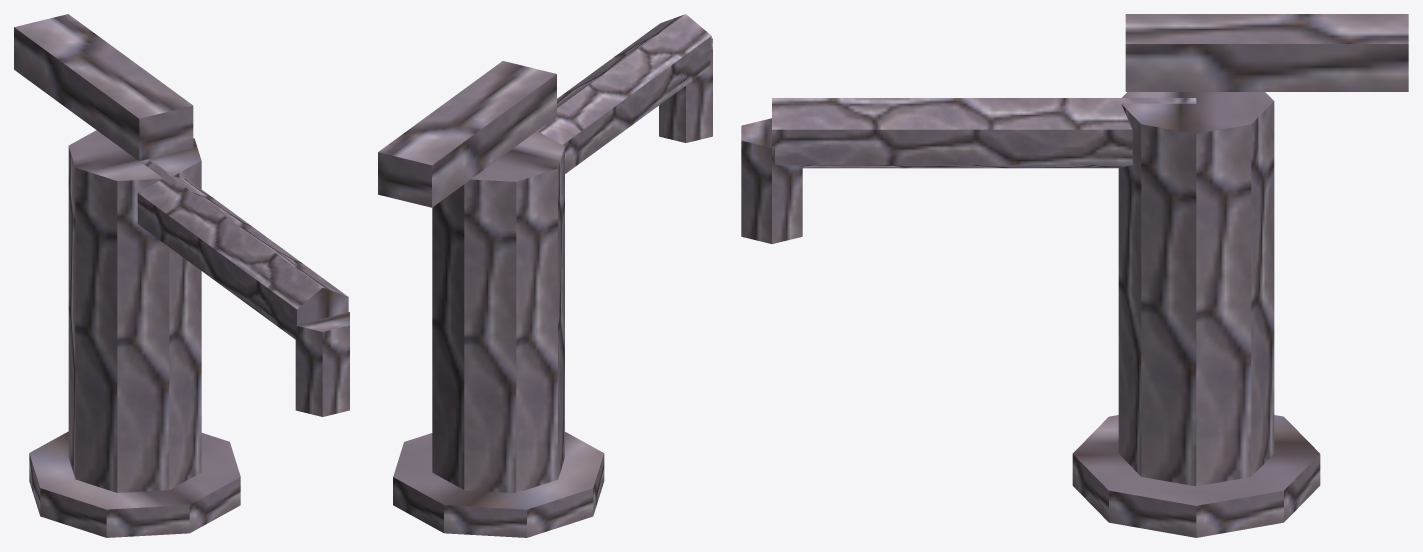
The model's file is Faucet.fbx.
The picture shows the model from 3 angles, left to right: view 1: azimuth 30°, elevation 25°; view 2: azimuth 150°, elevation 25°; view 3: azimuth 270°, elevation 25°; orthographic projection. The views are drawn at different scales.
Parts seen in each view (by area): view 1: Faucet; view 2: Faucet; view 3: Faucet.
Boxes of the visible parts, bbox=[...] form: Faucet: bbox=[14, 14, 349, 537]; Faucet: bbox=[378, 14, 712, 537]; Faucet: bbox=[741, 14, 1408, 537].
Size of the model in its own units: 0.07 by 0.1425 by 0.1887.
